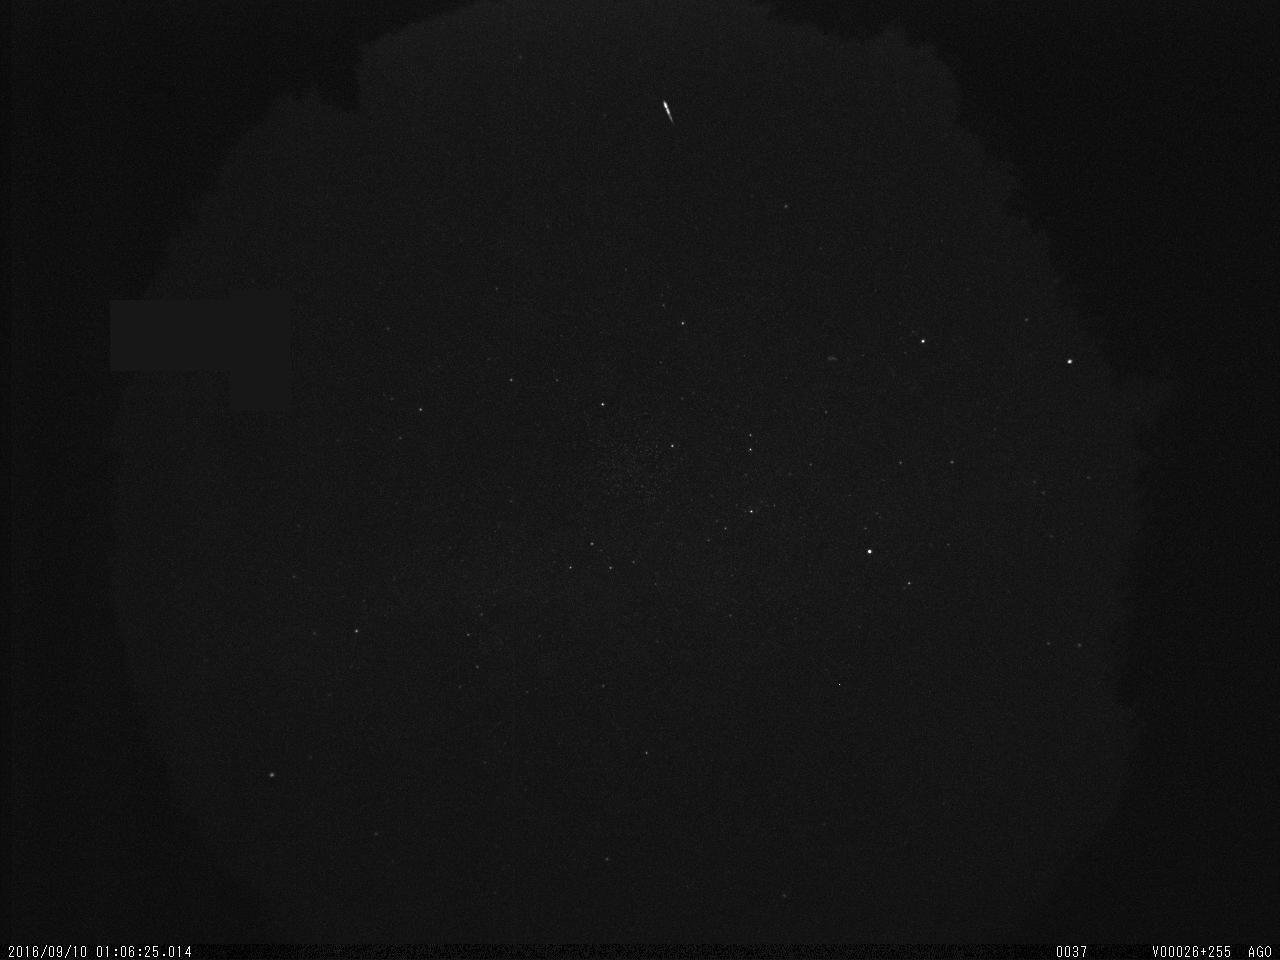meteor: (653, 94, 683, 133)
